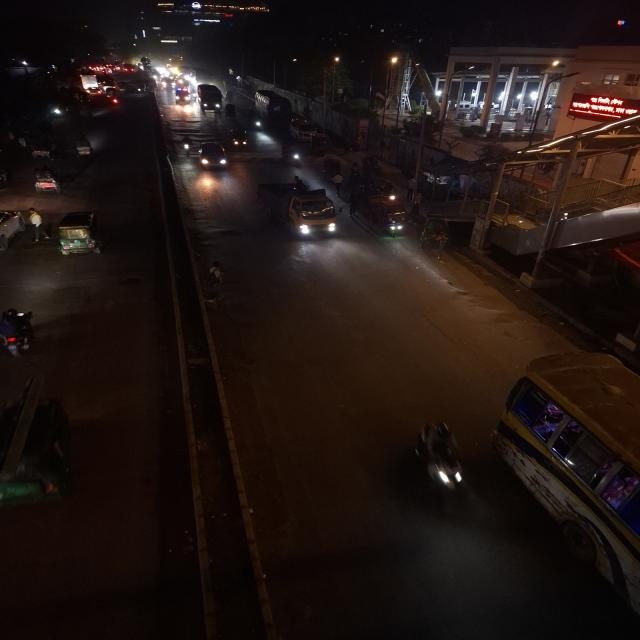bus: (483, 350, 640, 618), (252, 90, 292, 118), (198, 86, 221, 115)
car: (194, 139, 230, 173)
cng: (51, 209, 106, 259), (227, 128, 251, 152), (172, 85, 191, 104)
motorcycle: (408, 413, 471, 505), (0, 305, 39, 361), (178, 135, 195, 157), (107, 88, 119, 106)
pedestrian: (201, 259, 230, 306), (22, 207, 44, 243), (348, 190, 360, 220)
pickup_van: (253, 182, 342, 240)
rickshaw: (417, 215, 462, 263), (368, 198, 412, 240), (14, 132, 61, 162), (27, 165, 64, 198), (318, 156, 346, 185), (70, 133, 96, 164), (278, 140, 302, 166), (225, 102, 238, 121)
truck: (284, 114, 320, 142)
